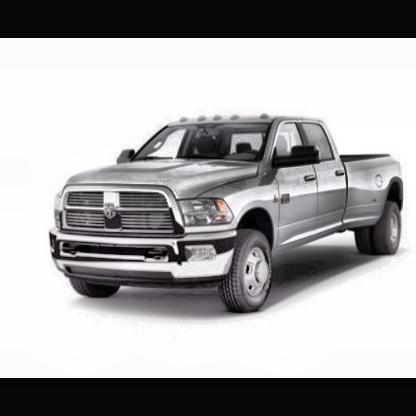Dodge Ram Pickup 3500 Quad Cab 2009: (51, 116, 403, 314)
